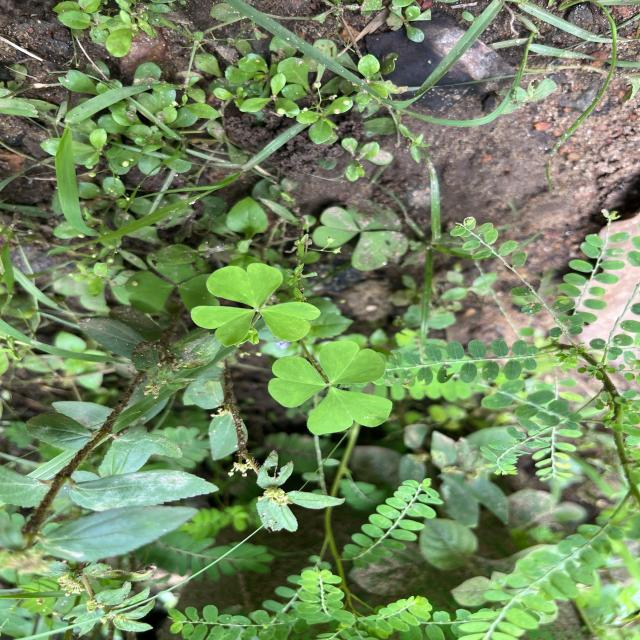Oxalis corniculata: (266, 339, 394, 436), (190, 261, 322, 348)
